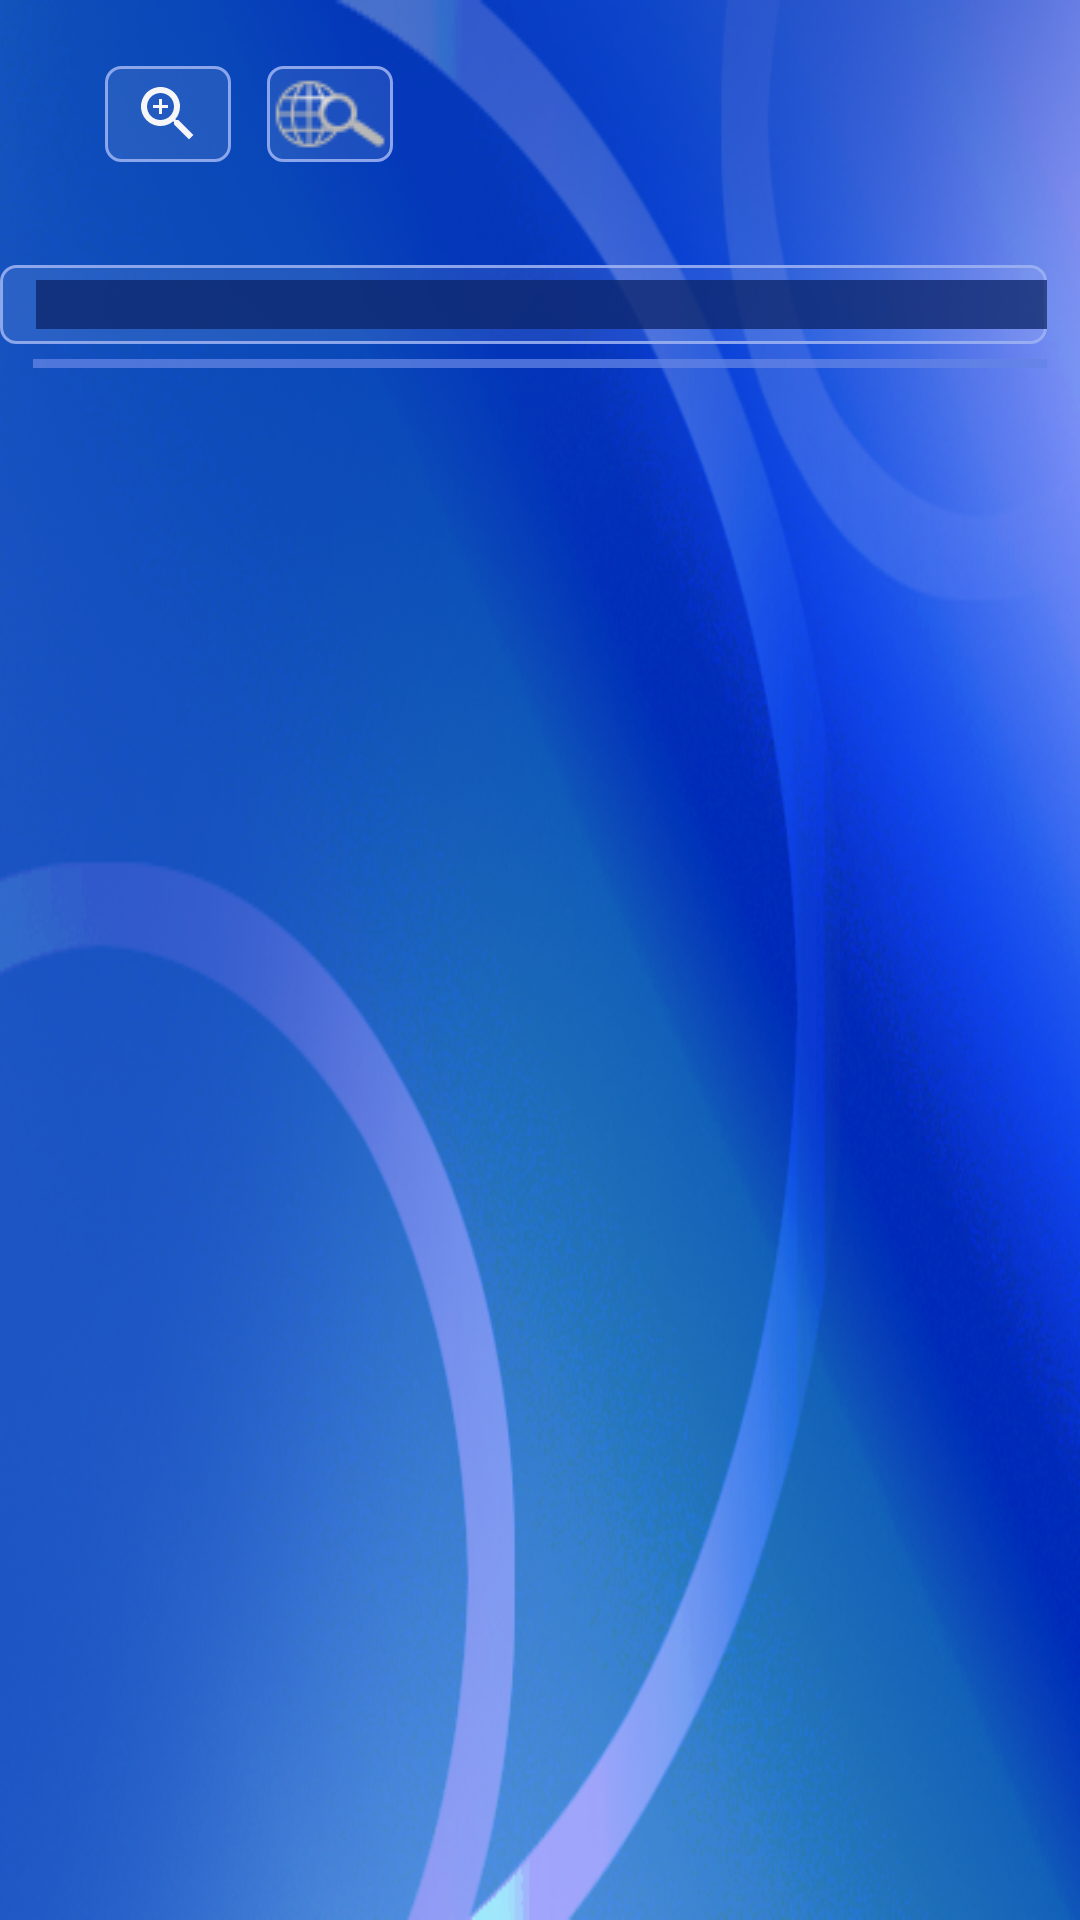

Icons on this 1080w x 1920h Android screen, each with the point to tap as (x,y):
zoom in: (168,114)
